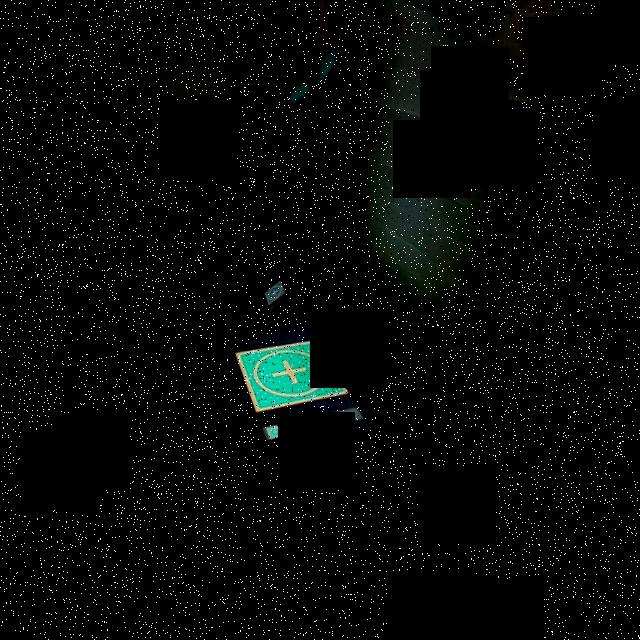Marker: (231, 340, 348, 420), (262, 283, 283, 309), (264, 427, 282, 443)
